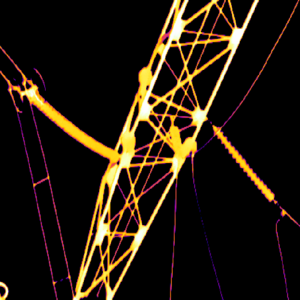insulator: (22, 87, 120, 163), (213, 125, 274, 200)
